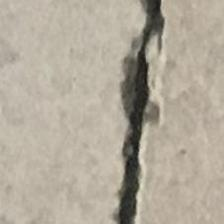Crack: (83, 0, 210, 224)
